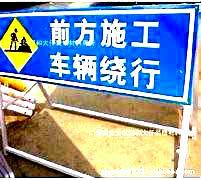sign: (1, 8, 195, 97)
